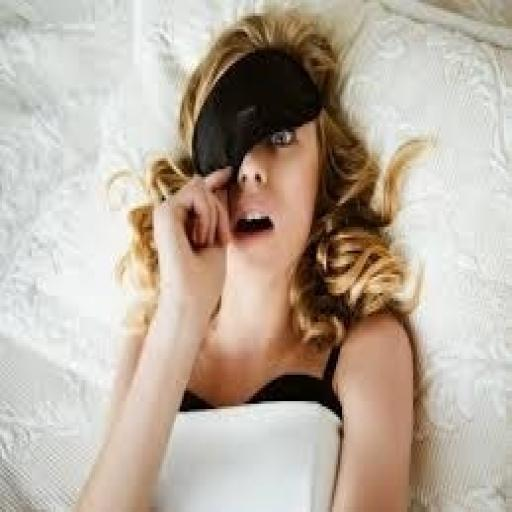sleeping: (61, 8, 431, 509)
